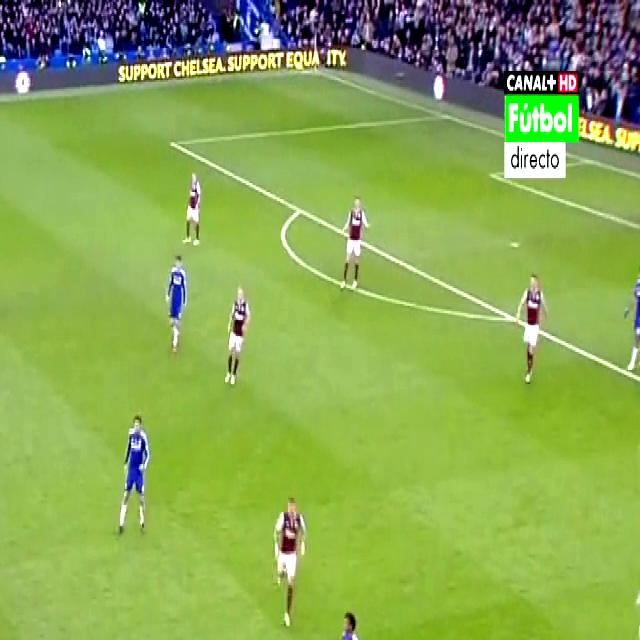soccer-player: (272, 484, 316, 636), (106, 399, 152, 537), (512, 262, 553, 392), (218, 274, 252, 392), (338, 188, 372, 301), (160, 248, 190, 360), (623, 258, 640, 391), (183, 162, 207, 252), (322, 602, 373, 640)
